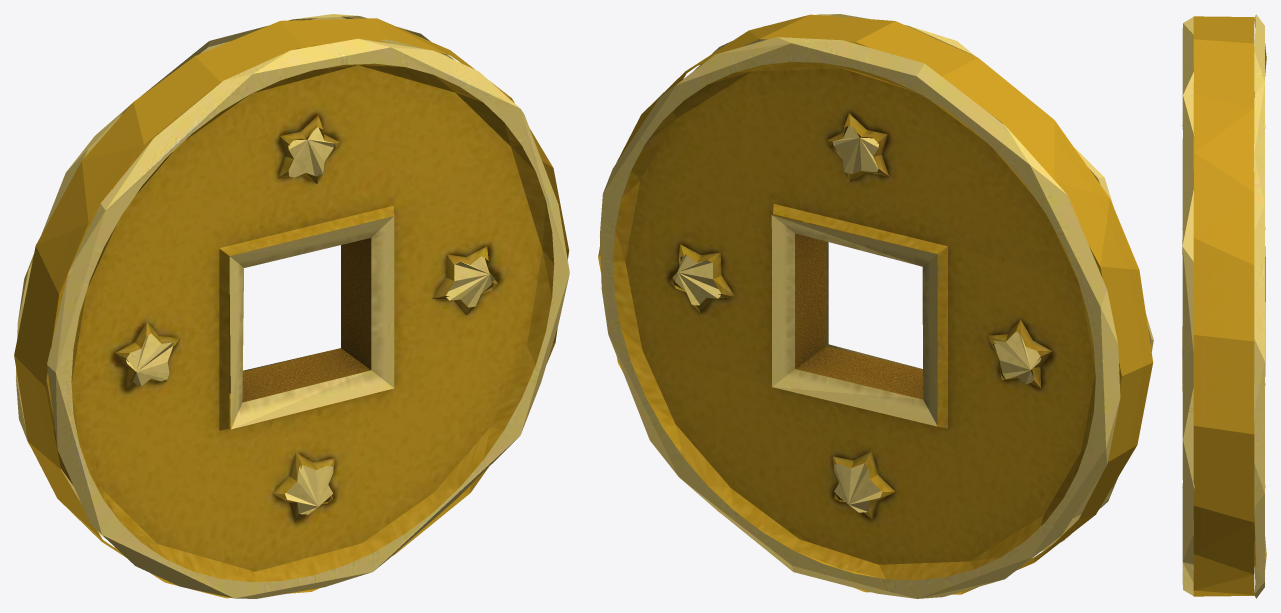
3 renders of one model, left to right at view 1: azimuth 30°, elevation 25°; view 2: azimuth 150°, elevation 25°; view 3: azimuth 270°, elevation 25°, orthographic. The views are drawn at different scales.
Visible parts, largest first — view 1: Prosperity_Gold, Polished_Raised_Gold, Warm_Recess_Gold; view 2: Prosperity_Gold, Polished_Raised_Gold, Warm_Recess_Gold; view 3: Prosperity_Gold, Polished_Raised_Gold.
Part boxes in pixels (bbox=[...]): Prosperity_Gold: bbox=[14, 18, 569, 598]; Polished_Raised_Gold: bbox=[15, 14, 569, 598]; Warm_Recess_Gold: bbox=[229, 238, 371, 402]; Prosperity_Gold: bbox=[598, 14, 1153, 594]; Polished_Raised_Gold: bbox=[599, 14, 1153, 598]; Warm_Recess_Gold: bbox=[795, 223, 923, 399]; Prosperity_Gold: bbox=[1193, 16, 1266, 596]; Polished_Raised_Gold: bbox=[1182, 14, 1265, 598].
Size of the model in its own units: 0.9852 by 0.9852 by 0.1423.
Materials: 3 (3 with a texture image).
